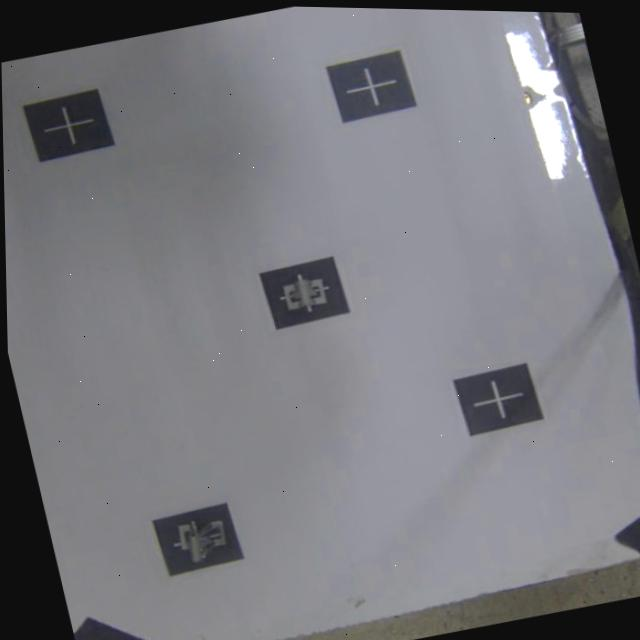pick3: (258, 253, 356, 339)
pick5: (150, 494, 246, 579)
